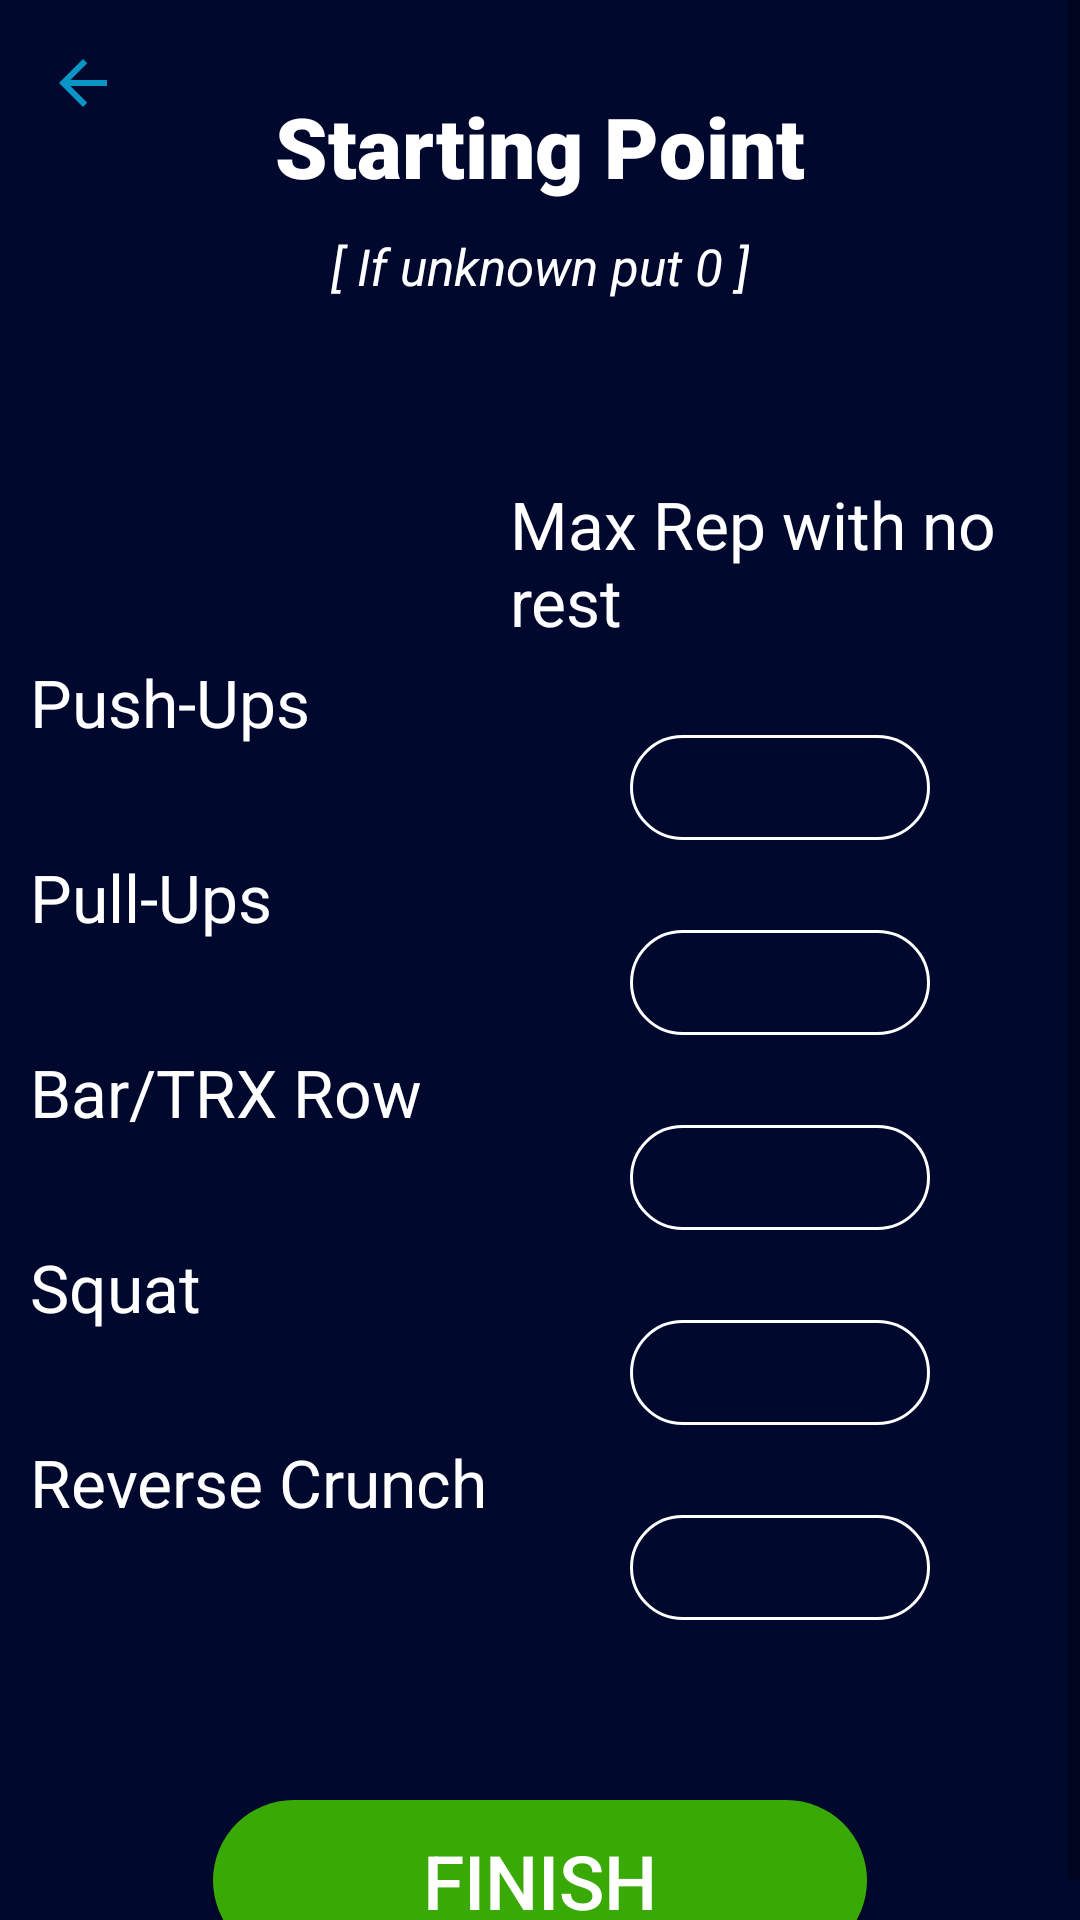

Where icons sit on this 1080w x 1920h app screen, as (x1,y1,x2,y2):
arrow back short: (59,59,107,107)
